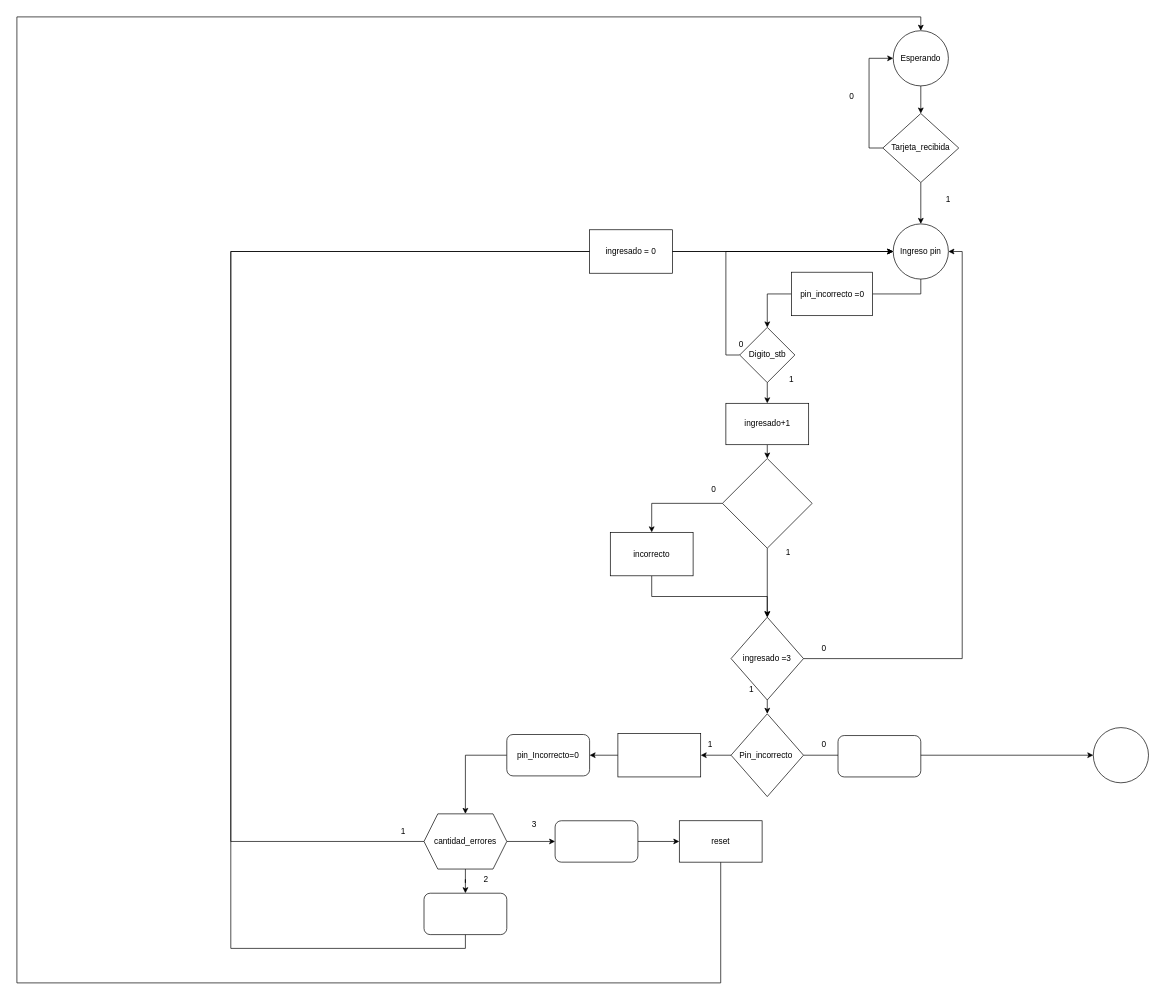
Some shapes in this 1161 by 1001 pixel diagram are drawn without their labels. The centre of each missing label's shape, as x and y in pixels:
"Advertencia=0" belongs at (879,756).
"Advertencia=0 bloqueo=1" belongs at (596,841).
"Advertencia=1" belongs at (465,914).
"Cant_errores+1" belongs at (659,755).
"digito==pin[ingresado]" belongs at (767,503).
"Transferencia" belongs at (1121,755).
